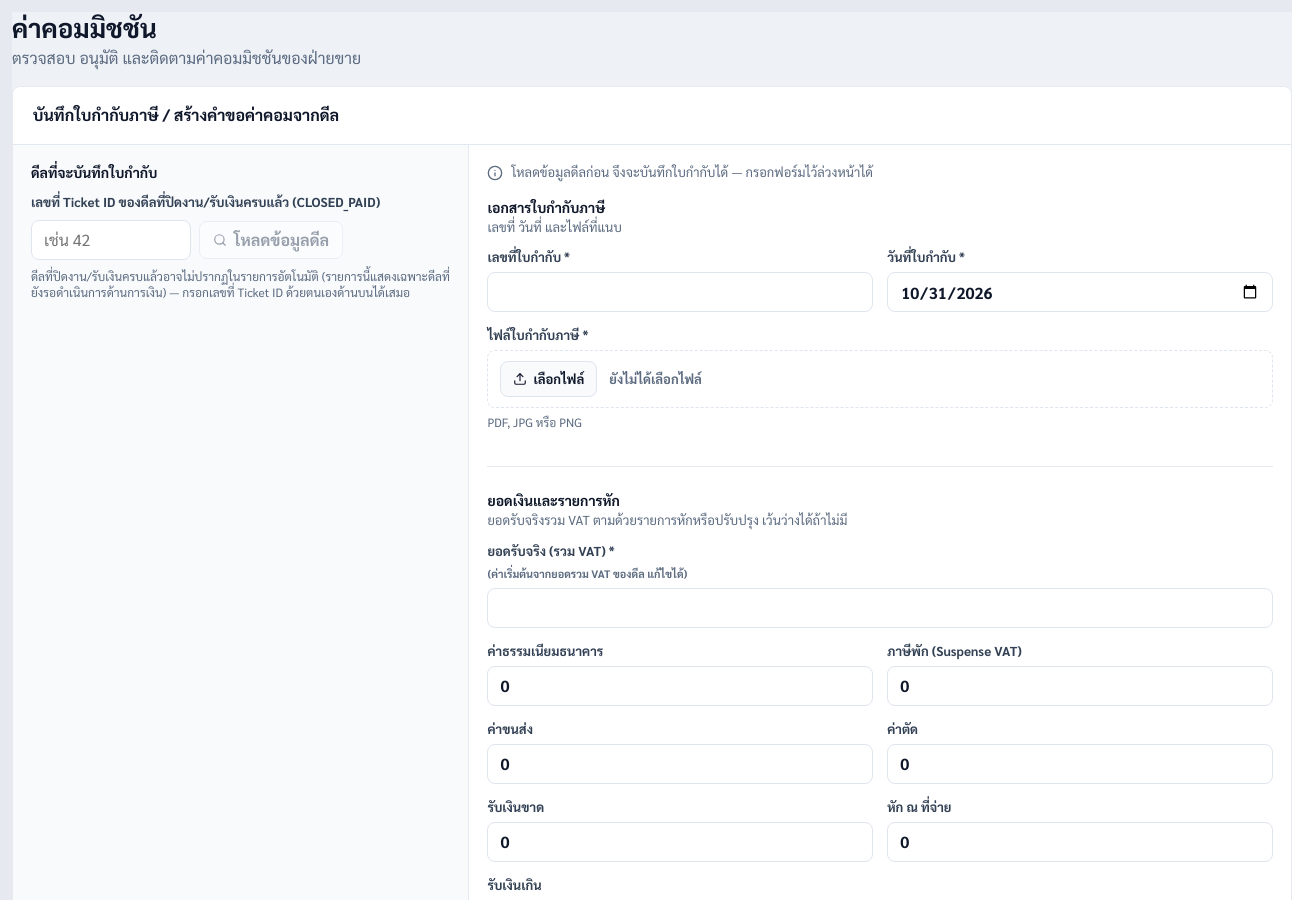
Test: CommissionPage — account create-from-deal tax invoice upload › a finance-view deal that has not reached CLOSED_PAID is refused with the stage in the message
Type "42" into the number field labelled "เลขที่ Ticket ID" at (111, 240), box [31, 220, 191, 260]
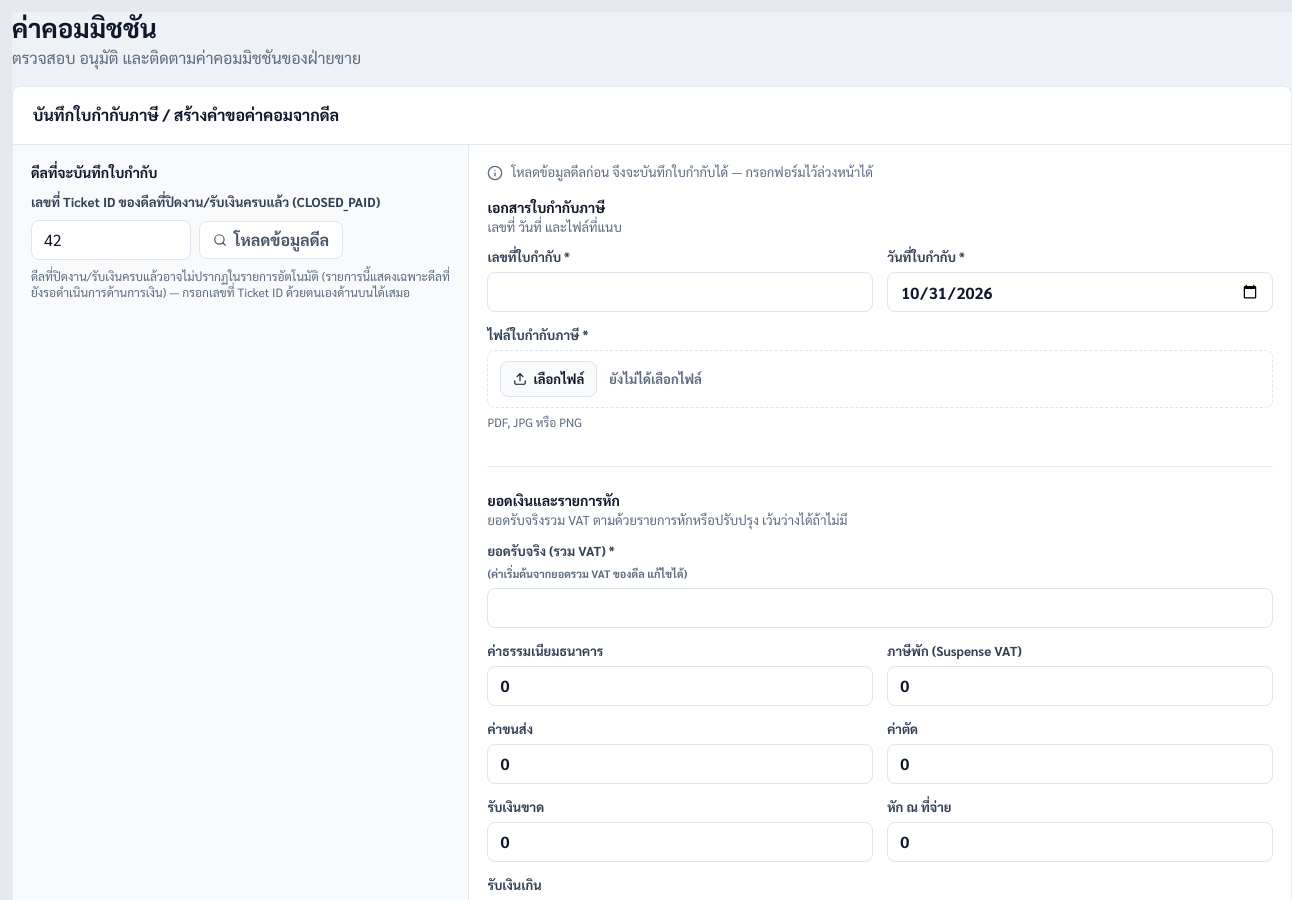
Click the button "โหลดข้อมูลดีล" at (271, 240), box [199, 221, 343, 259]
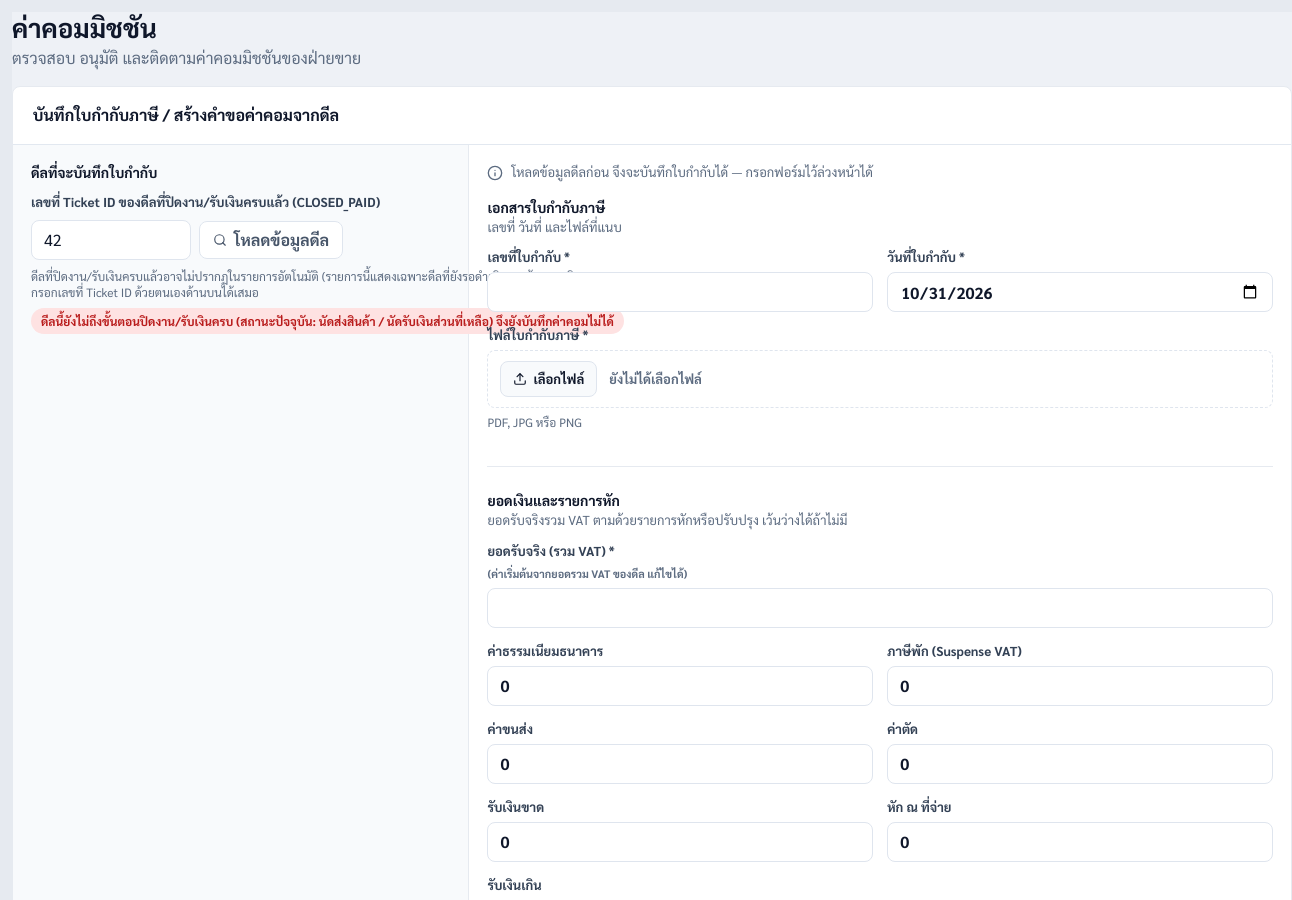
Result: the text "ยังไม่ถึงขั้นตอนปิดงาน" shows "นัดส่งสินค้า / นัดรับเงินส่วนที่เหลือ" at [41, 313, 614, 329]
